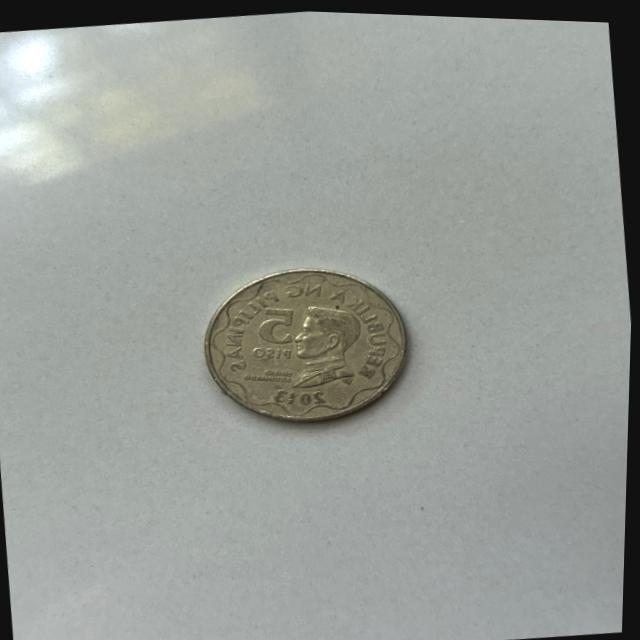5_Old_Front: (189, 251, 423, 439)
